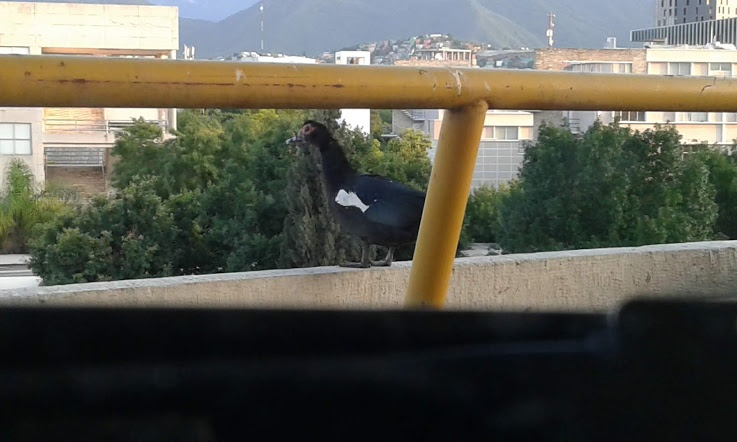pato: (290, 119, 420, 258)
